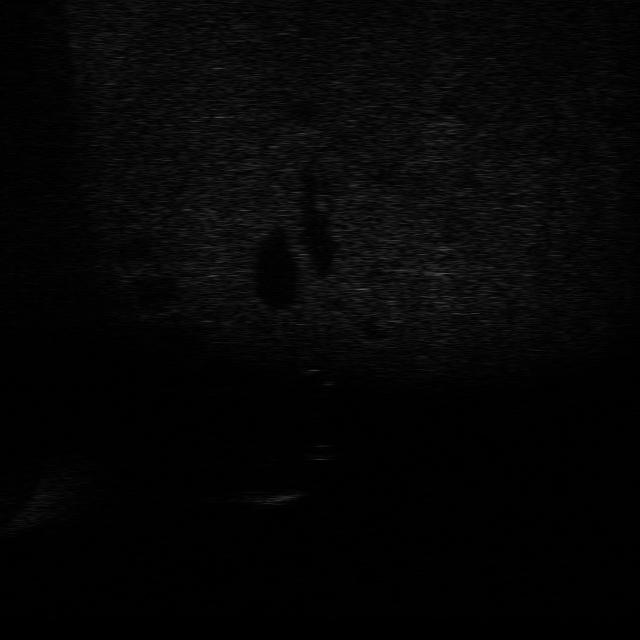ball: (301, 439, 339, 463)
human body: (294, 340, 335, 405)
square cage: (229, 476, 305, 508)
